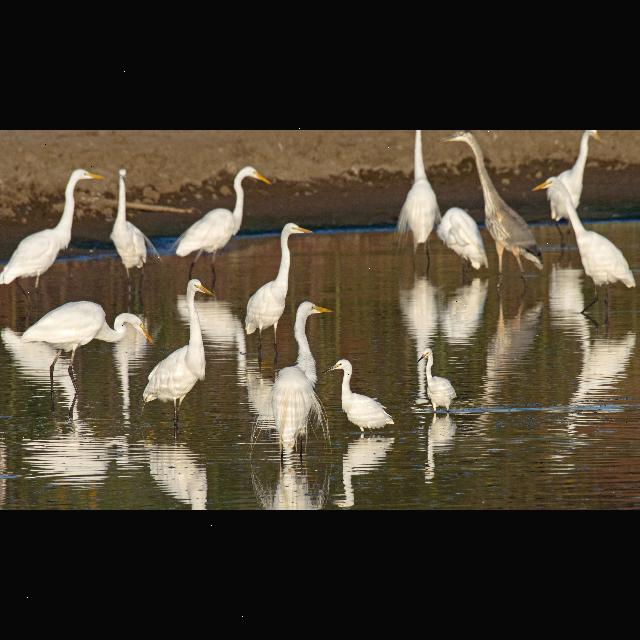egret: (534, 176, 640, 304), (5, 168, 101, 284), (178, 163, 270, 273), (160, 277, 222, 431), (21, 302, 158, 366), (277, 301, 329, 445), (112, 168, 160, 274), (334, 358, 388, 444), (411, 346, 464, 414), (274, 218, 316, 298)
heron: (438, 134, 524, 264)
